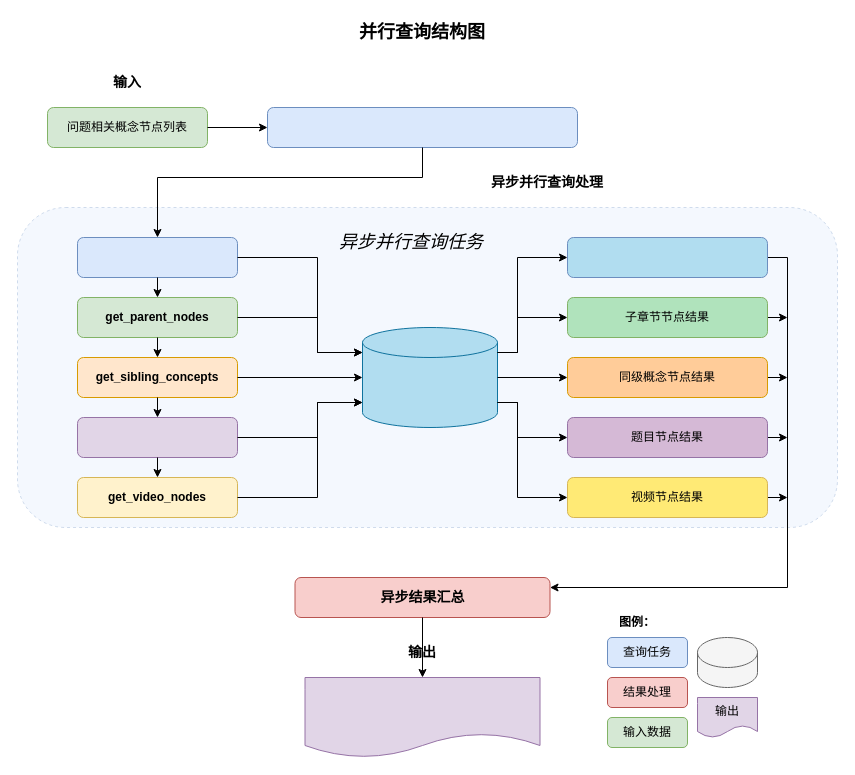
Image size: 855x775. Some labels were removed from this diagram. The centre of each missing label's shape, as x and y in pixels:
async function retrieve_knowledge_graph: the point at 422,127
get_concept_nodes: the point at 157,257
get_topic_nodes: the point at 157,437
完整知识图谱结构 {nodes, links}以及相关语料: the point at 422,717
操作系统知识图谱: the point at 430,377
数据库: the point at 727,662
直接相关概念节点结果: the point at 667,257
